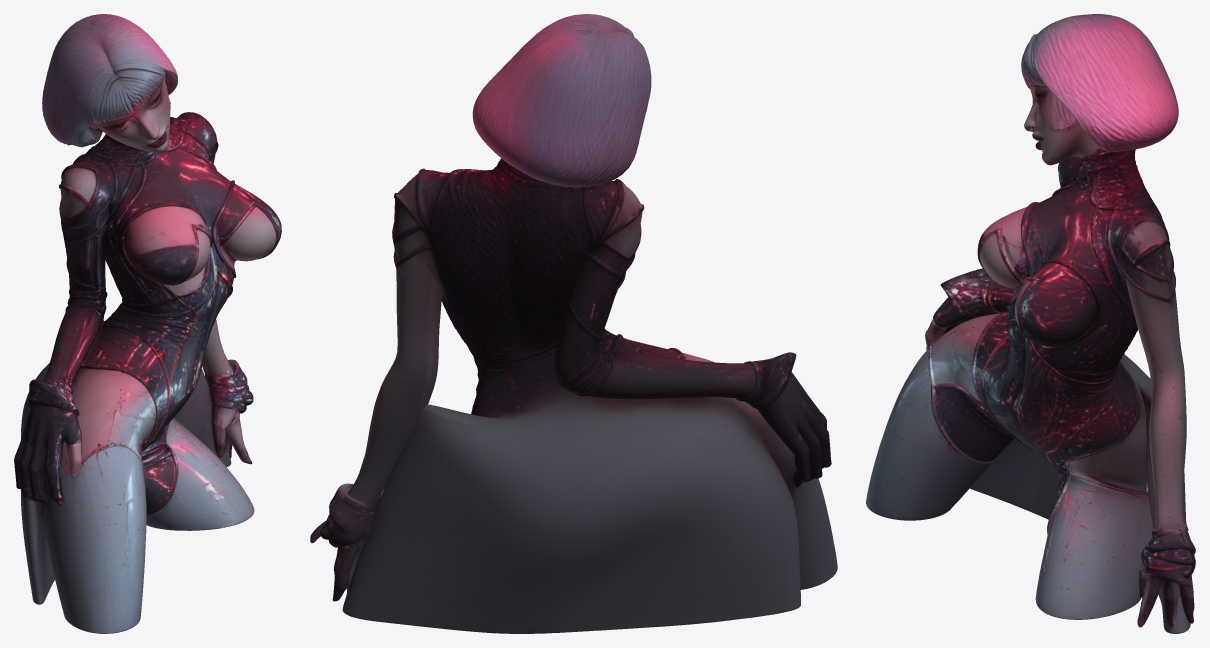
Rendered from 01a1980f-16f7-7aed-8edc-5242390da368.glb.
3 renders of one model, left to right at view 1: azimuth 30°, elevation 25°; view 2: azimuth 150°, elevation 25°; view 3: azimuth 270°, elevation 25°, orthographic. The views are drawn at different scales.
Visible parts, largest first — view 1: node_0; view 2: node_0; view 3: node_0.
Boxes of the visible parts, left/top/right/bottom form: node_0: left=14, top=14, right=281, bottom=633; node_0: left=310, top=14, right=837, bottom=633; node_0: left=866, top=14, right=1195, bottom=633.
Size of the model in its own units: 0.6492 by 0.952 by 0.5334.
Materials: 1 (1 with a texture image).
